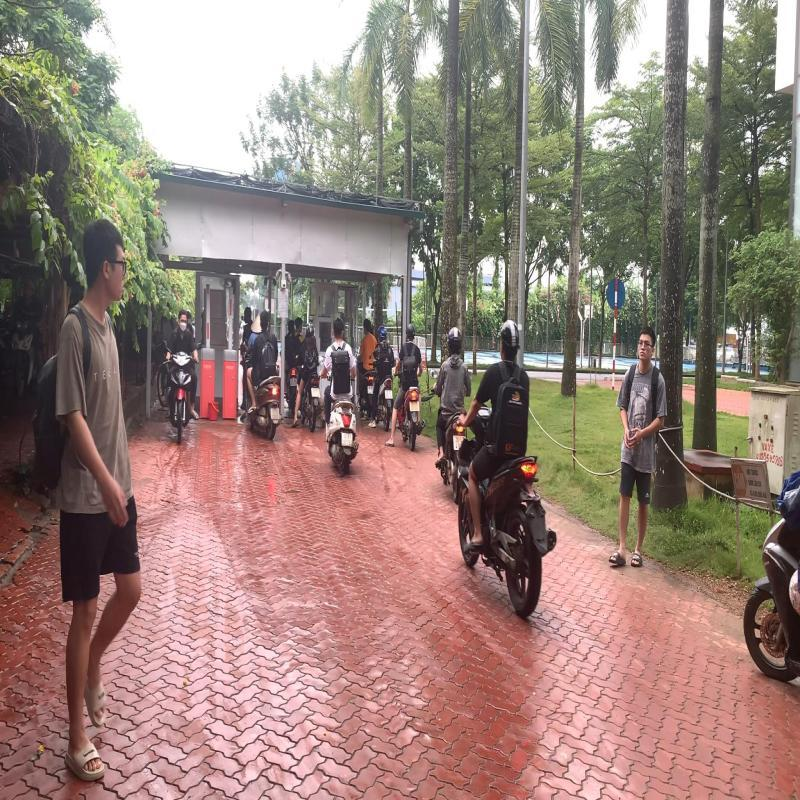licenseplate: (336, 432, 352, 450)
motorcyclist: (316, 314, 361, 477)
nohelmet: (334, 316, 349, 340), (259, 309, 270, 331)
